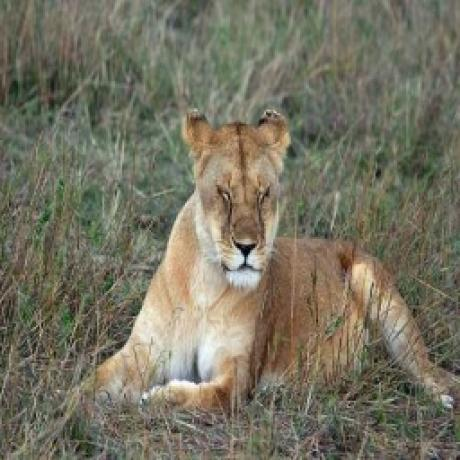Lion: (86, 106, 460, 408)
